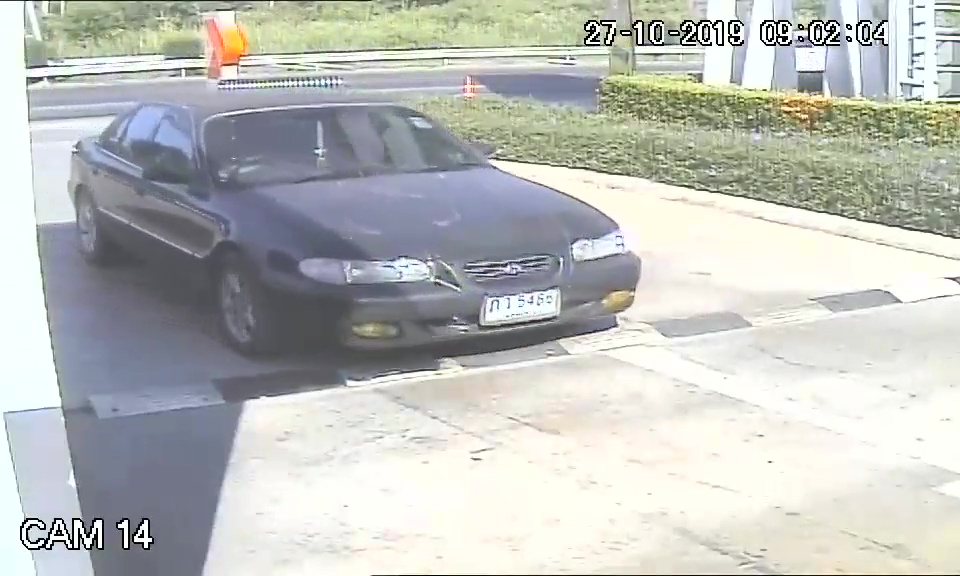sedan: (62, 89, 642, 356)
